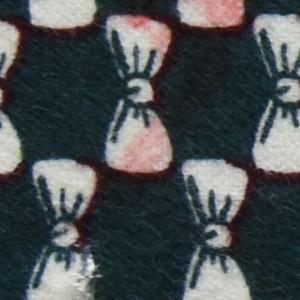Damage: (71, 240, 111, 300)
Stain: (115, 1, 258, 186)
